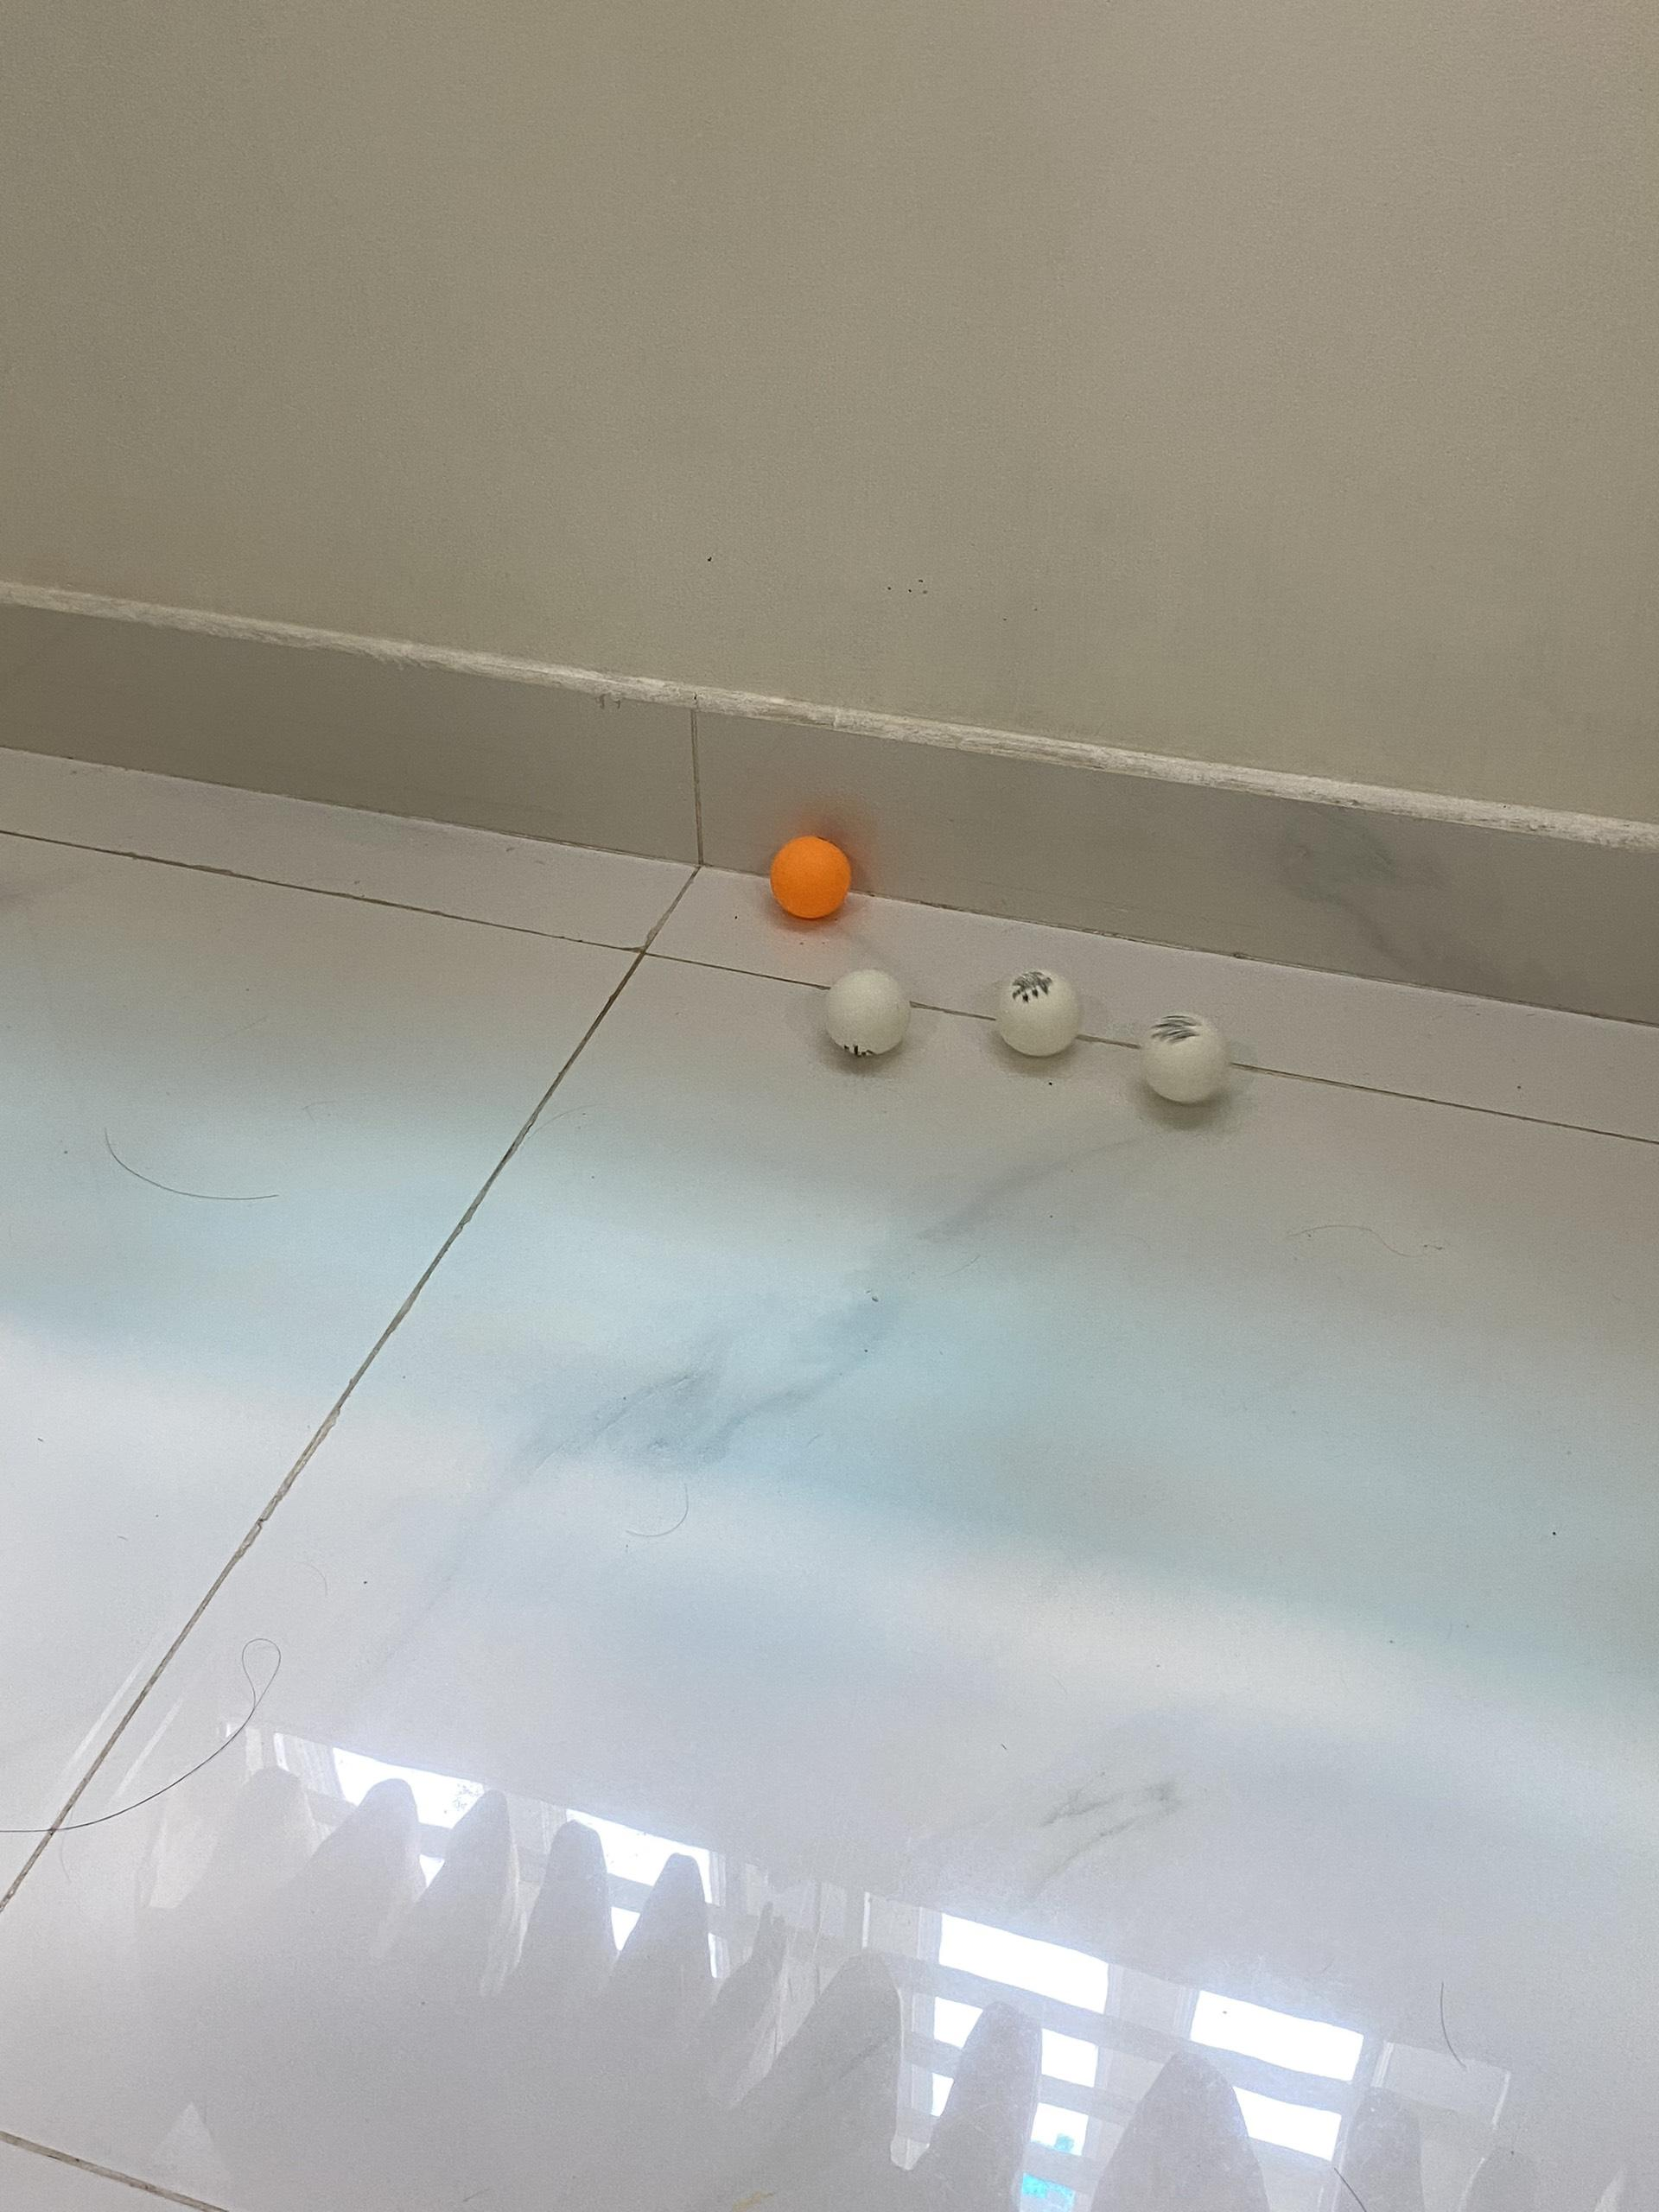oball: (772, 836, 856, 920)
